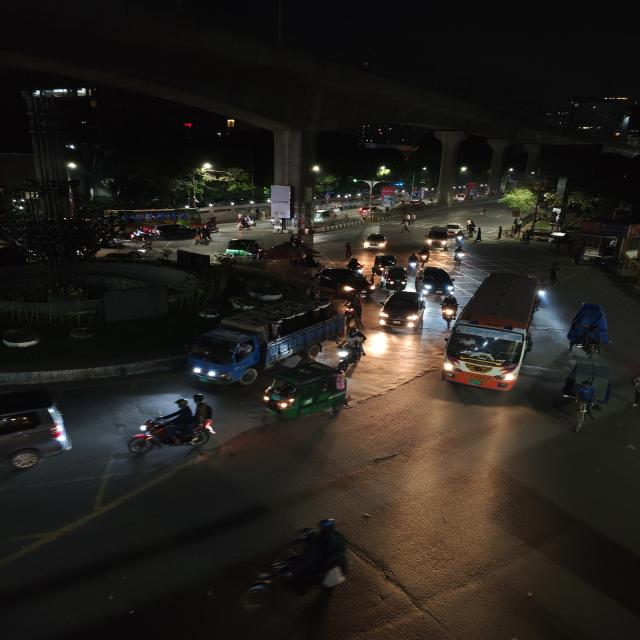bicycle: (569, 377, 601, 419)
bus: (440, 271, 543, 395), (115, 210, 203, 230)
car: (0, 386, 74, 484), (375, 291, 428, 333), (312, 267, 374, 299), (418, 264, 456, 296), (422, 222, 464, 250), (152, 223, 196, 242), (360, 231, 390, 252)
cng: (259, 363, 350, 422), (222, 238, 265, 262), (371, 253, 405, 283), (378, 266, 409, 290)
motorcycle: (251, 513, 359, 640), (120, 403, 218, 460), (336, 327, 368, 367), (288, 241, 324, 268), (438, 293, 460, 325), (451, 245, 469, 268), (232, 218, 258, 231), (408, 251, 423, 272)
pedestrian: (626, 368, 640, 412), (547, 262, 563, 282), (466, 218, 479, 242), (398, 216, 412, 233), (495, 224, 506, 240), (520, 232, 531, 246)
pickup_van: (182, 295, 353, 384)
rickshaw: (564, 300, 616, 359)
